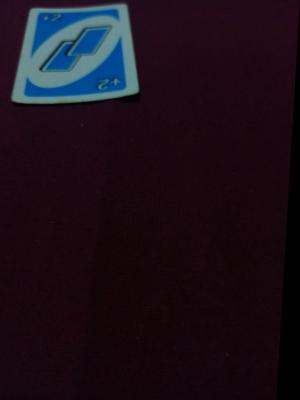blue: (36, 14, 118, 90)
